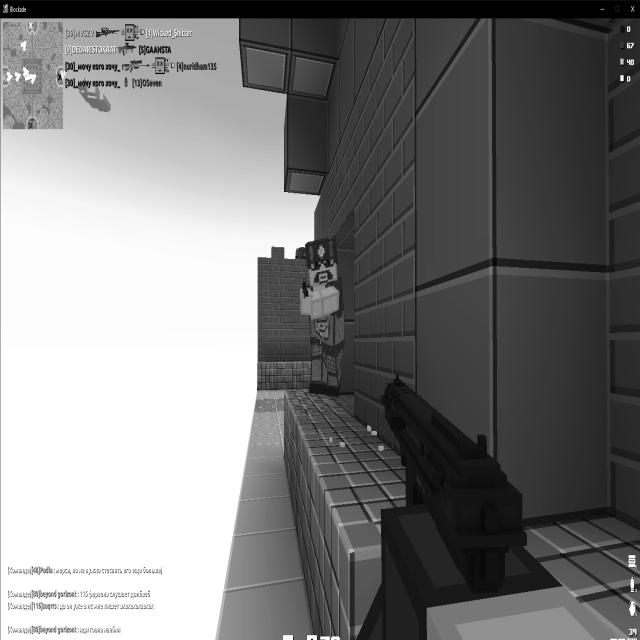Head: (304, 238, 342, 285)
Player: (300, 234, 345, 394)
